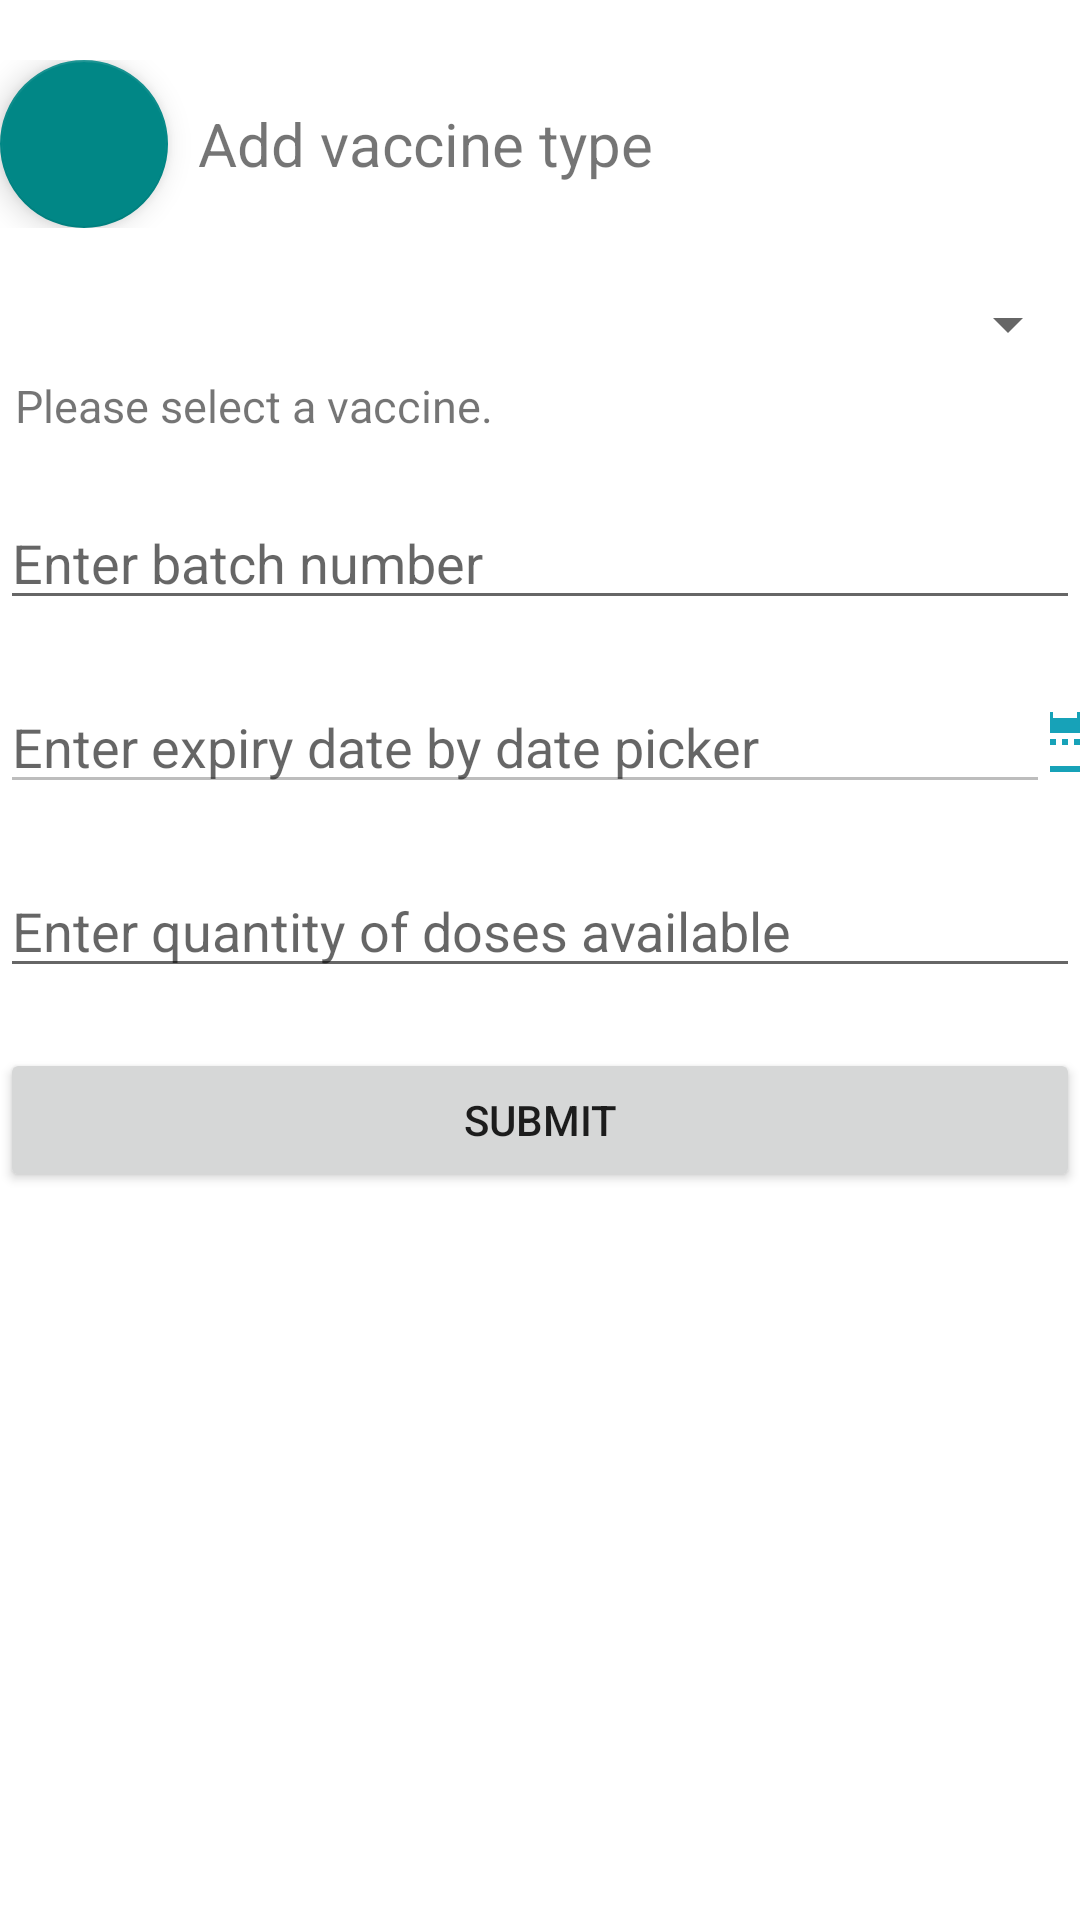

Screen size 1080×1920. Icon name, then its box in pixels as (x1, y1, x2, y2):
calendar: (1050, 712, 1080, 772)
